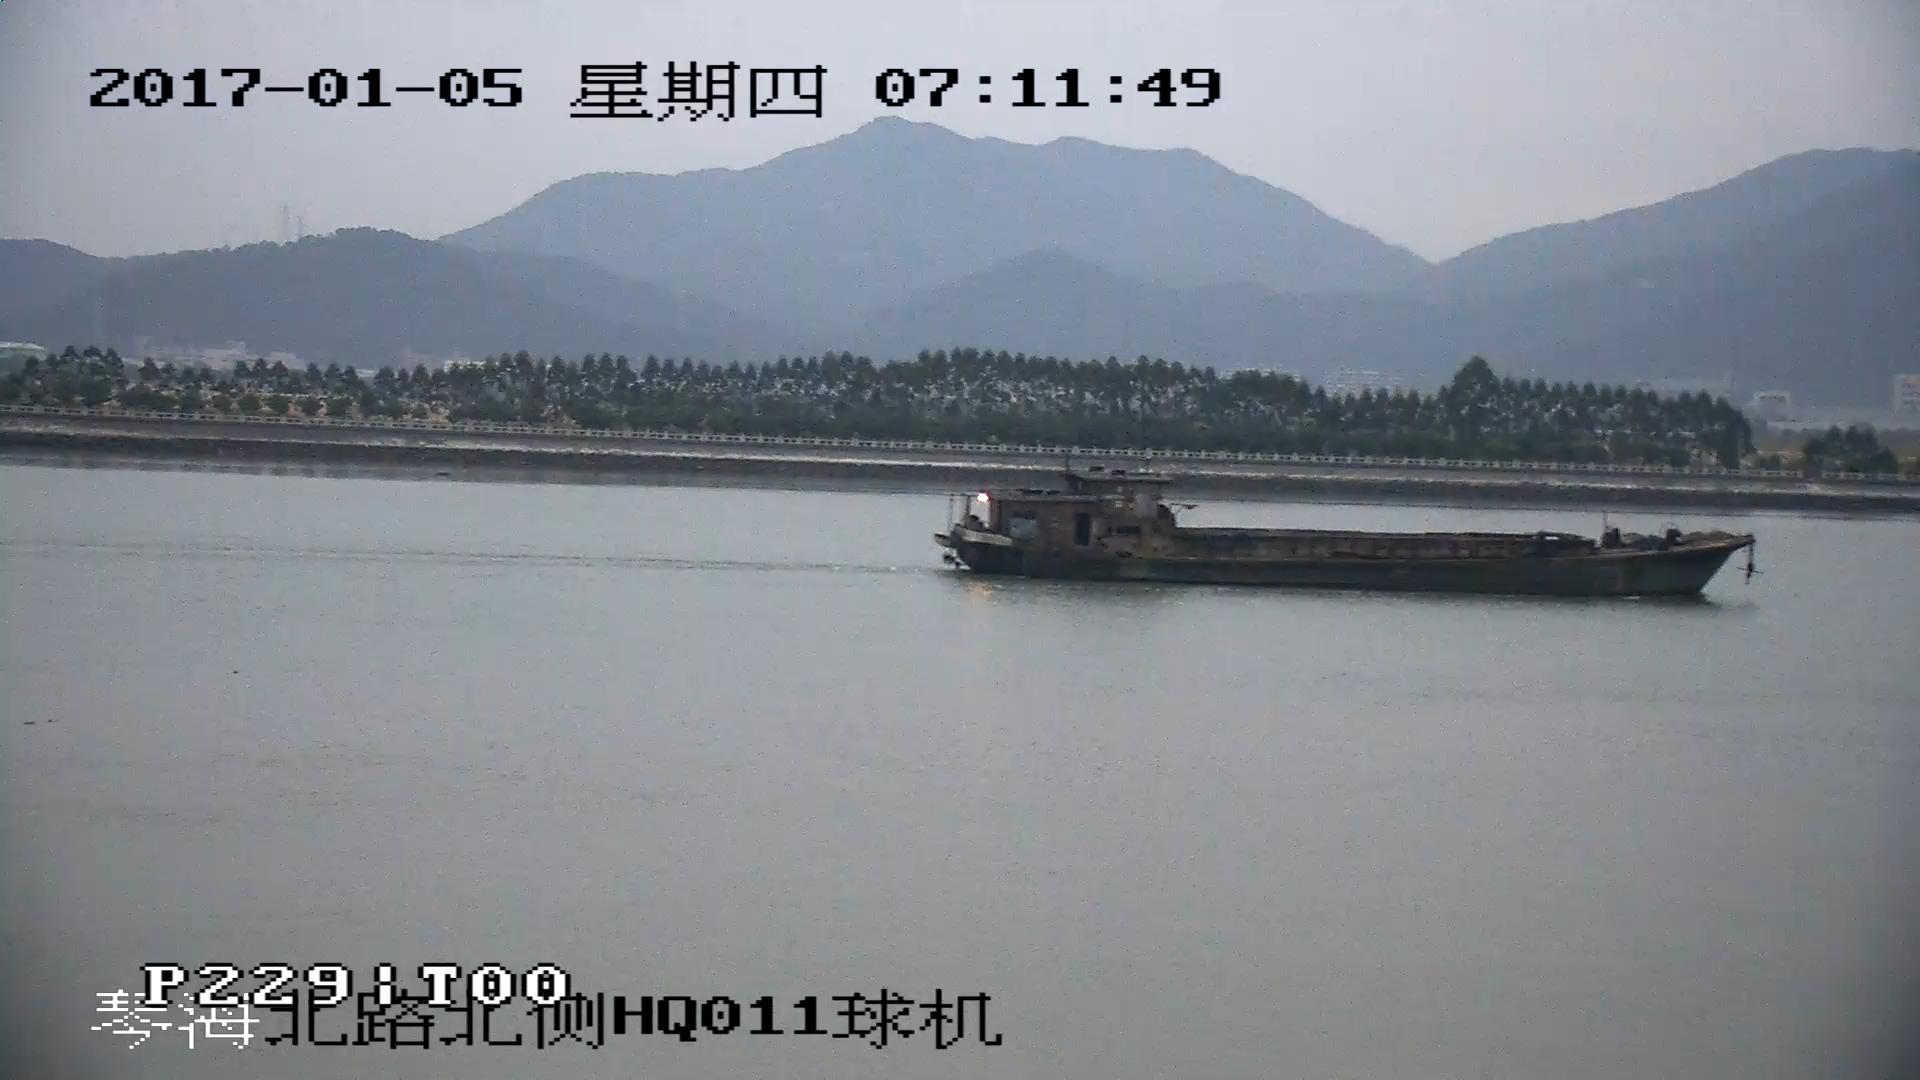Ship: (939, 473, 1760, 600)
